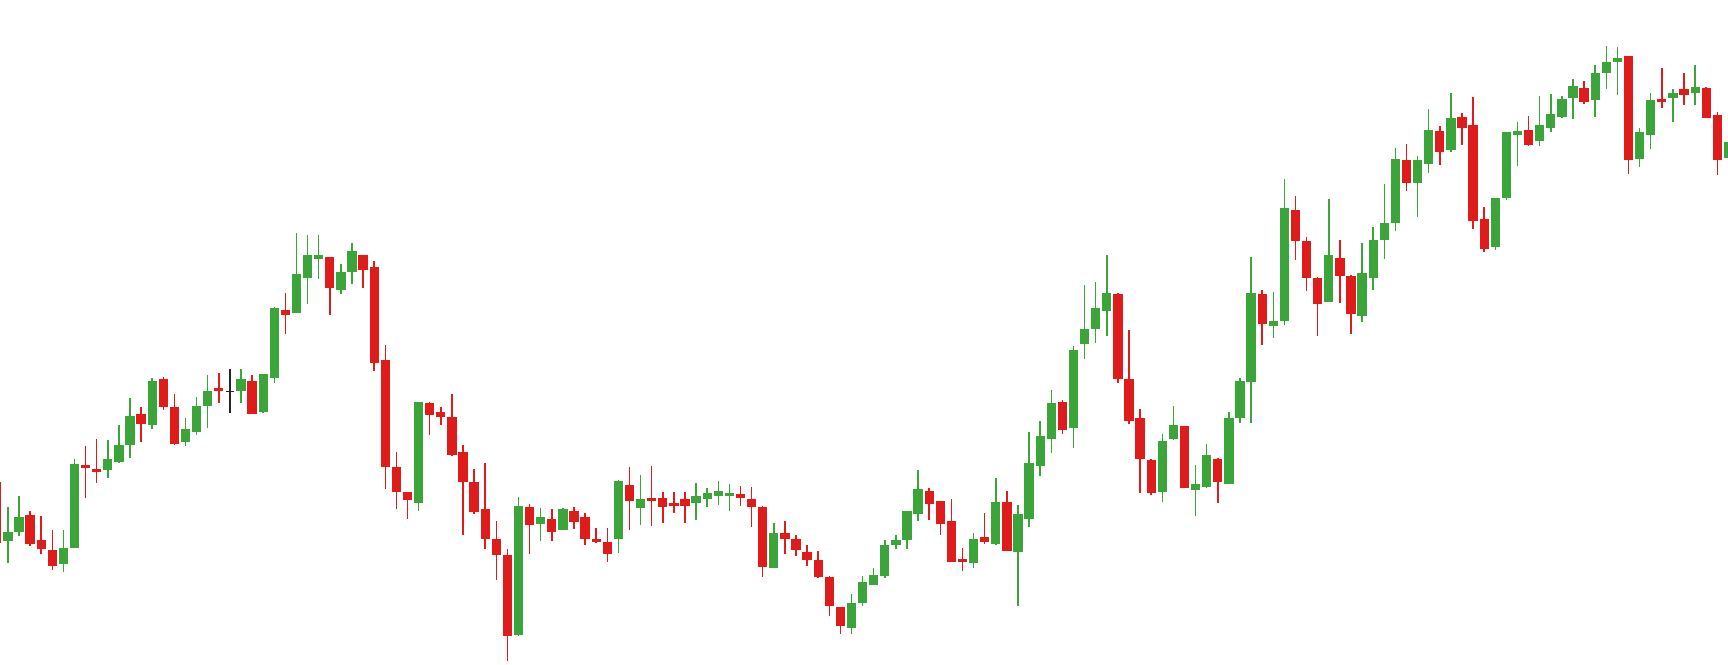buy: (1410, 142, 1500, 257), (958, 512, 1025, 609)
